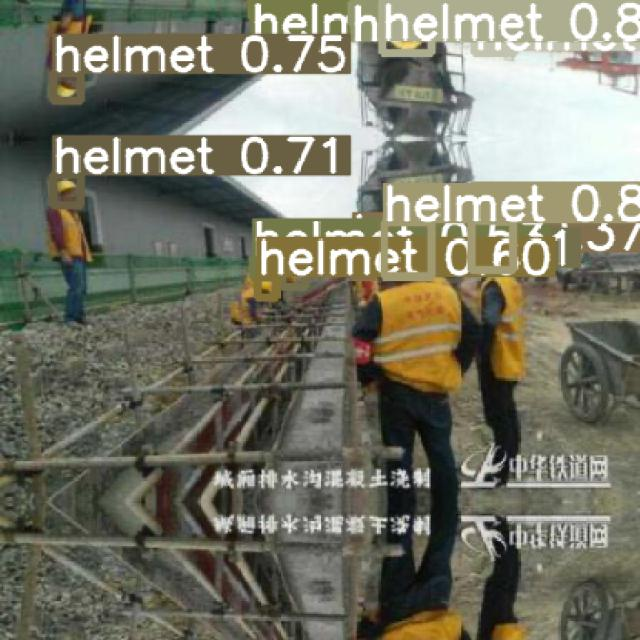helmet: (383, 222, 431, 276), (381, 0, 430, 52), (471, 220, 512, 269), (474, 11, 514, 52), (52, 173, 80, 204), (52, 72, 80, 100), (420, 1, 446, 28), (352, 251, 374, 275), (351, 2, 375, 23), (282, 266, 304, 286), (480, 0, 520, 11), (252, 257, 272, 277), (257, 275, 275, 297), (251, 0, 274, 17), (282, 0, 303, 6)
